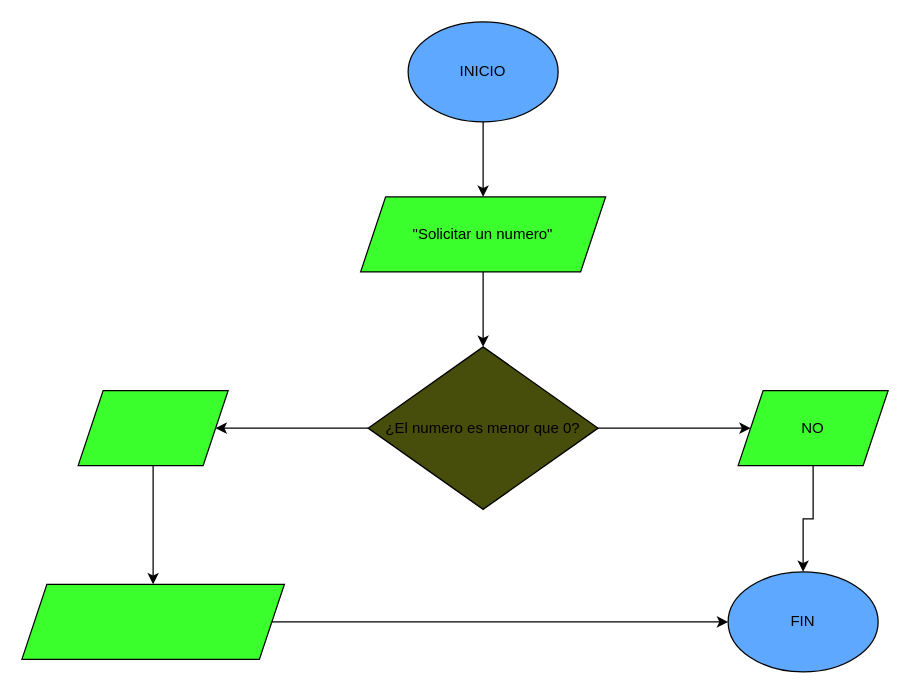
The diagram is 910 pixels wide and 694 high, and some of its shapes have lost their labels. Here are the shapes that lost their labels. From the top down, the centre of each, then its label:
(x=152, y=427): SI
(x=152, y=621): Generar ValueError: El numero ingresado es menor que cero
